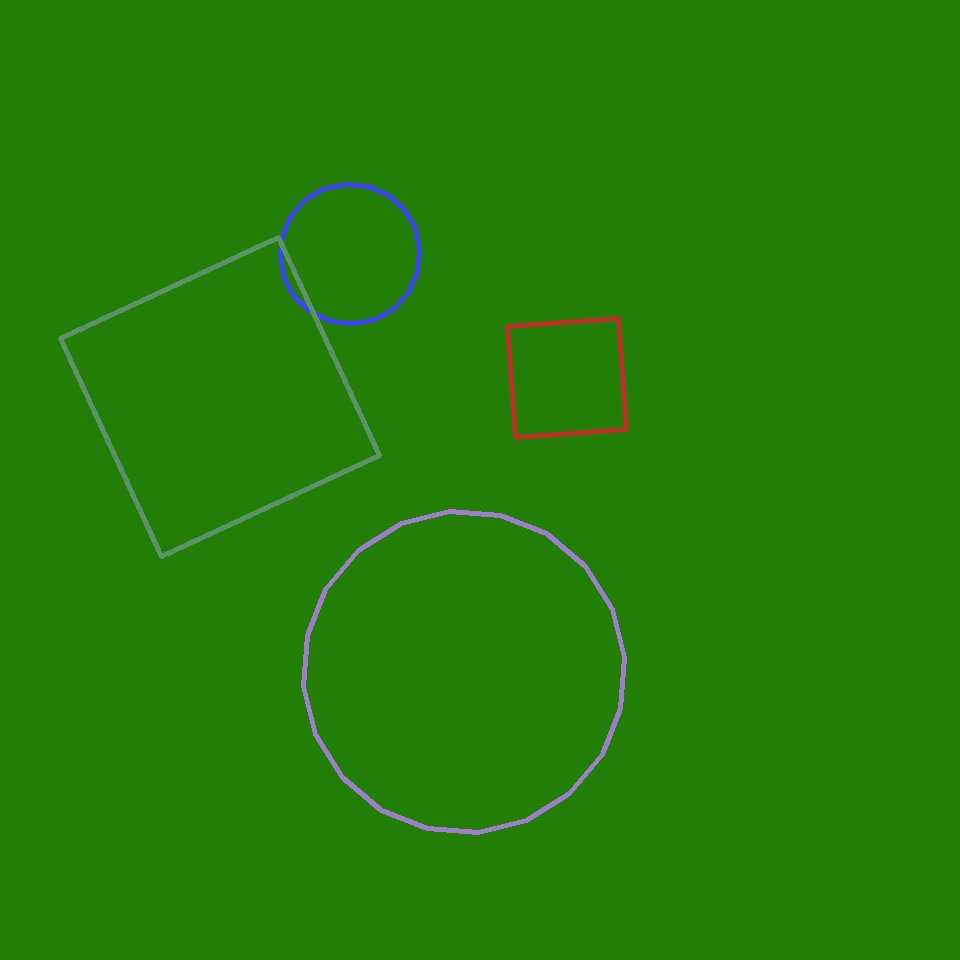square: (60, 237, 379, 556), (507, 318, 626, 437)
triangle: (304, 511, 624, 832), (280, 184, 420, 324)
